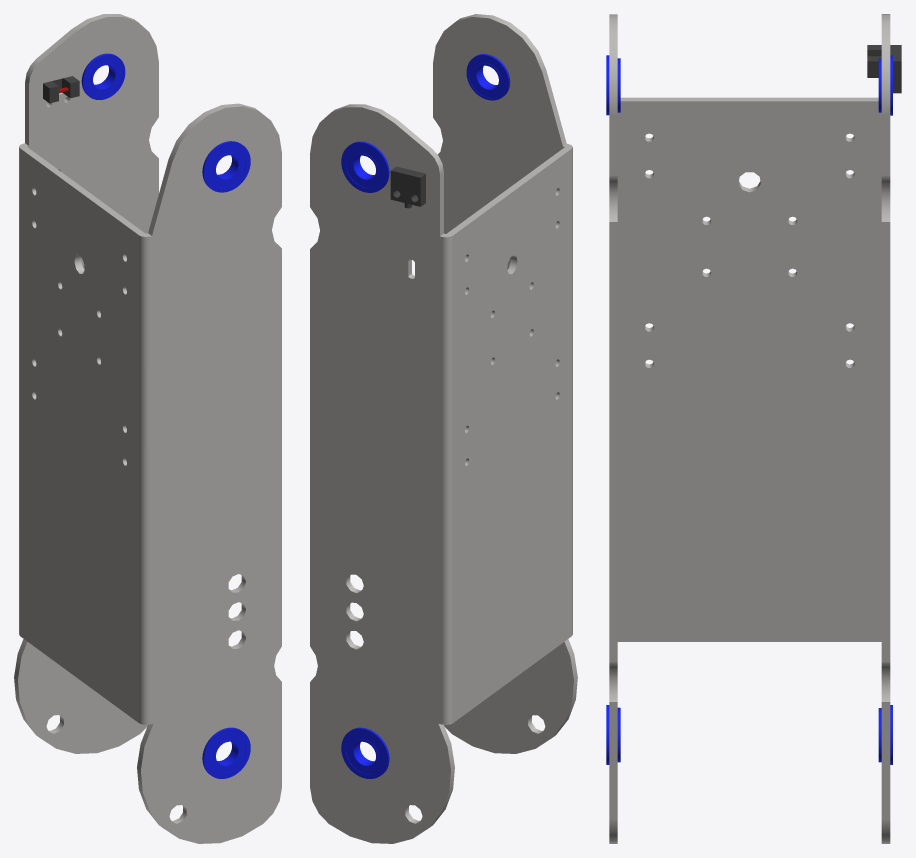
Rendered from lifter_bone.dae.
3 views of the same model, side by side, from view 1: azimuth 30°, elevation 25°; view 2: azimuth 150°, elevation 25°; view 3: azimuth 270°, elevation 25° (orthographic). The views are drawn at different scales.
Parts seen in each view (by area): view 1: ソリッド1, ソリッド5, ソリッド4, ソリッド3, ソリッド6; view 2: ソリッド1, ソリッド3, ソリッド2, ソリッド5, ソリッド6; view 3: ソリッド1, ソリッド6.
Boxes of the visible parts, x1,y1,x2,y2 form: ソリッド1: (14, 14, 281, 843); ソリッド5: (202, 141, 250, 192); ソリッド4: (202, 727, 250, 778); ソリッド3: (81, 53, 125, 99); ソリッド6: (43, 76, 79, 103); ソリッド1: (310, 14, 577, 843); ソリッド3: (341, 141, 389, 192); ソリッド2: (341, 727, 389, 778); ソリッド5: (466, 54, 510, 100); ソリッド6: (390, 166, 425, 208); ソリッド1: (609, 14, 890, 843); ソリッド6: (867, 45, 901, 93).
Size of the model in its own units: 0.063 by 0.103 by 0.3129.
